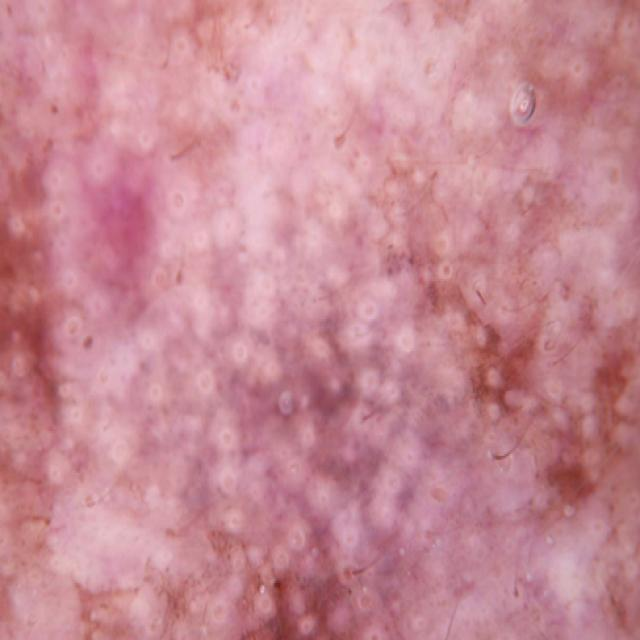Melanoma: (31, 104, 623, 640)
